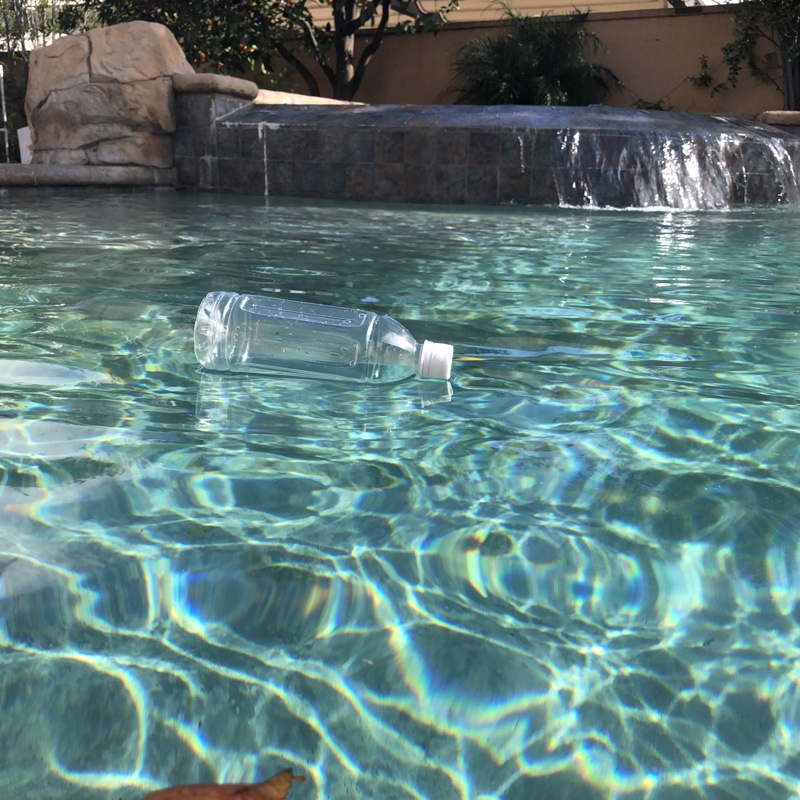Plastic Bottle: (190, 277, 462, 387)
